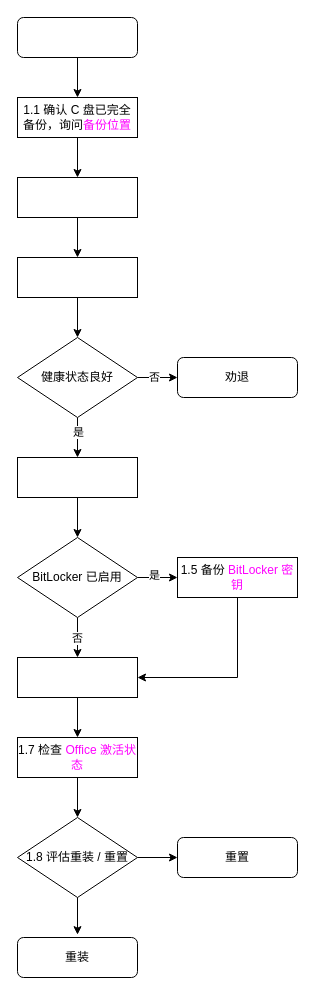
This 315x995 diagram has some shape labels left out. Here are the shapes that lost their labels. From the top down, the centre of each, then its label:
At (x=77, y=37): "1. 开始评估".
At (x=77, y=197): "1.2 确认 要安装的 操作系统版本".
At (x=77, y=277): "1.3 检查 硬盘健康状态".
At (x=77, y=477): "1.4 检查 BitLocker 状态".
At (x=77, y=677): "1.6 检查 Windows 激活状态".
